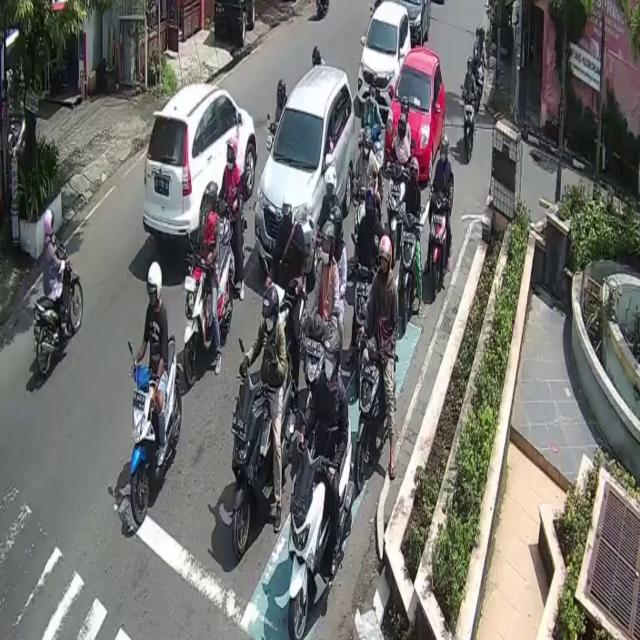bus: (289, 411, 354, 640), (233, 360, 295, 559), (130, 332, 182, 527), (181, 240, 231, 385), (34, 244, 83, 379), (359, 343, 399, 489), (397, 212, 418, 333), (430, 191, 450, 300), (461, 88, 477, 163)
motorcycle: (255, 63, 356, 273), (144, 85, 258, 236), (386, 46, 446, 180), (358, 1, 412, 118), (399, 0, 430, 52)
